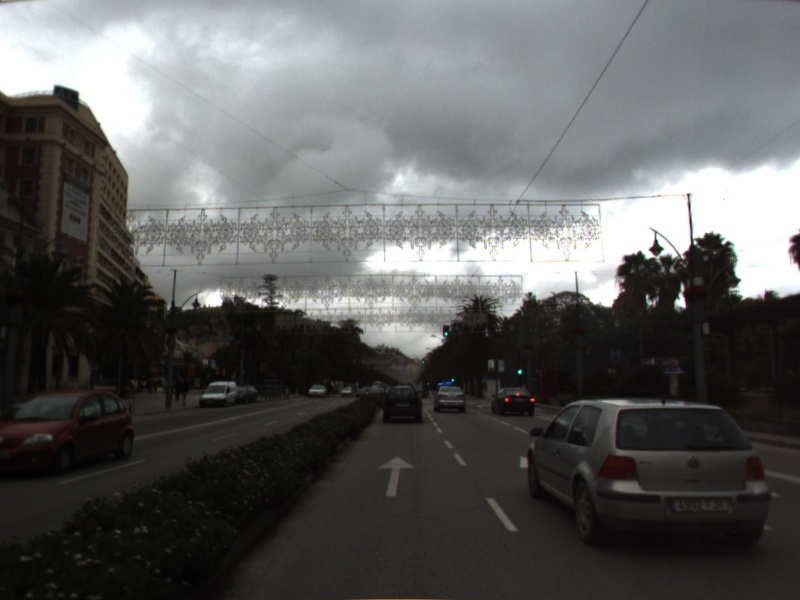STRAIGHT: (375, 453, 417, 498)
